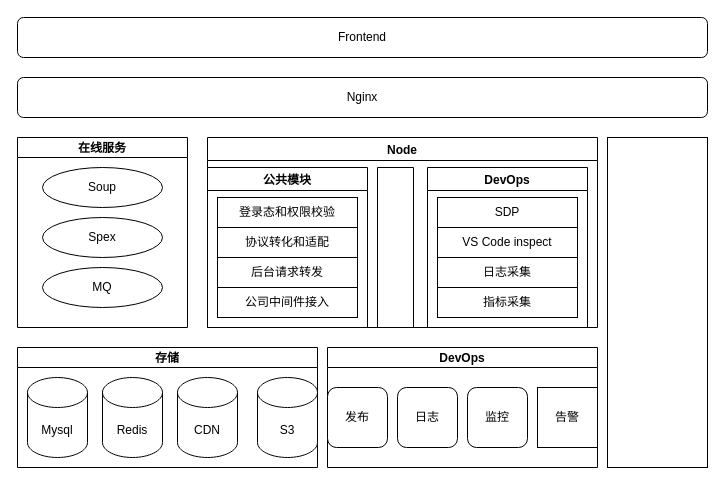
The diagram is 725 pixels wide and 485 high, and some of its shapes have lost their labels. Here are the shapes that lost their labels. From the top down, the centre of each, then its label:
the point at 395,247: 业务 模块
the point at 657,302: 后端API （http & RPC)
